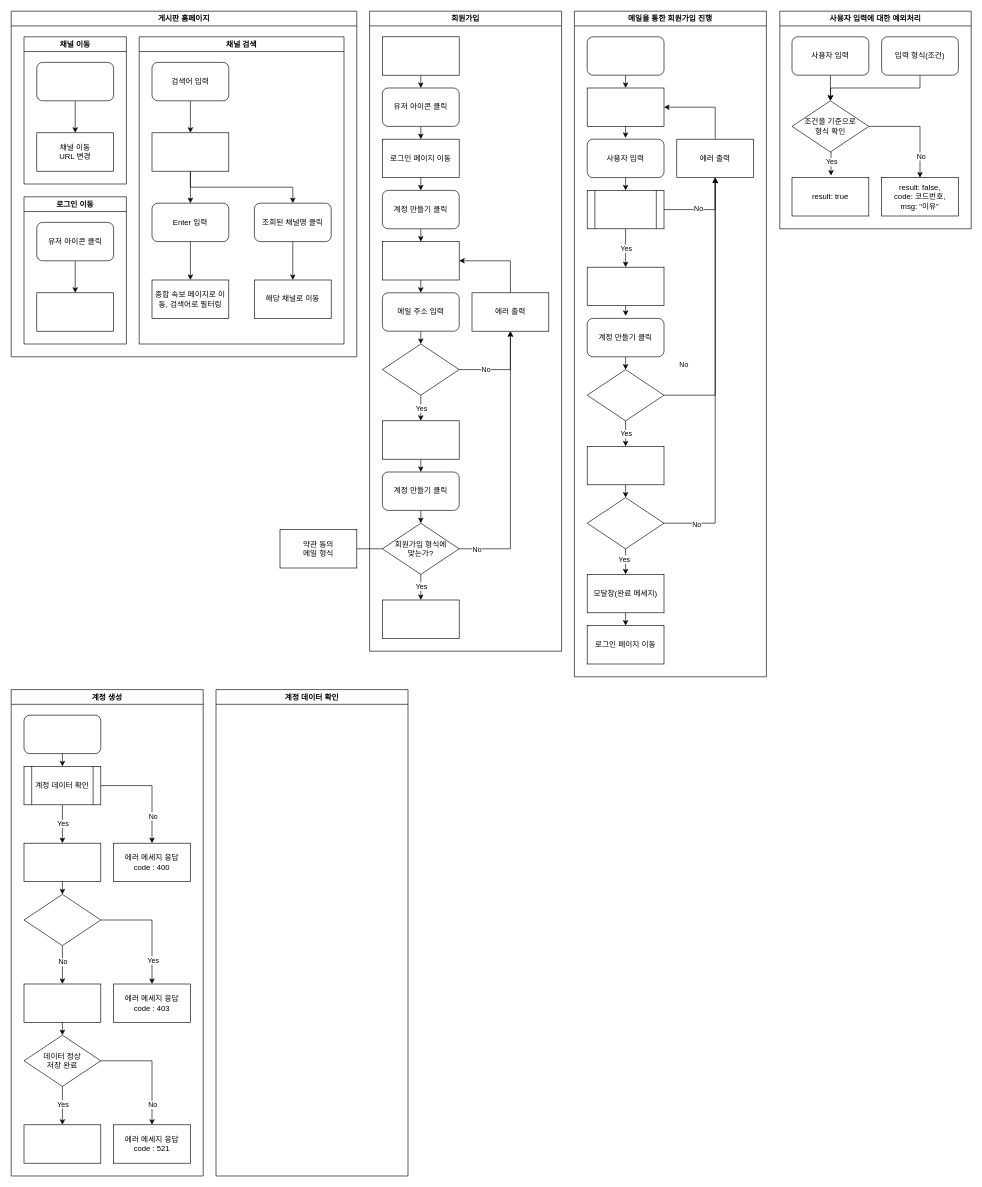
Some shapes in this 982 by 1187 pixel diagram are drawn without their labels. The centre of each missing label's shape, as x and y in pixels:
"DB에 계정 데이터 저장 요청" goes at (x=62, y=1002).
"DB에 계정 정보 조회 요청" goes at (x=62, y=862).
"계정 생성 요청 받음" goes at (x=62, y=734).
"계정 생성 확인" goes at (x=625, y=523).
"계정 생성에 대해 서버에 요청" goes at (x=625, y=465).
"계정 유무" goes at (x=62, y=920).
"로그인 페이지 이동 URL 변경" goes at (x=75, y=311).
"로그인 페이지로 redirect 응답" goes at (x=62, y=1143).
"메일 전송" goes at (x=420, y=618).
"메일로 온 URL 클릭" goes at (x=625, y=55).
"예외처리 (아이디, 비밀번호, 닉네임)" goes at (x=625, y=209).
"입력된 검색어 기준으로 채널명 조회" goes at (x=190, y=151).
"입력된 내용에 대해 메일 형식 확인" goes at (x=420, y=369).
"입력된 내용에 대해 형식 확인" goes at (x=625, y=395).
"채널명 클릭" goes at (x=75, y=81).
"체크 출력" goes at (x=625, y=286).
"체크 표시 출력" goes at (x=420, y=439).
"홈페이지 진입" goes at (x=420, y=55).
"회원 정보 입력 페이지 이동" goes at (x=625, y=106).
"회원가입 페이지 이동" goes at (x=420, y=260).
